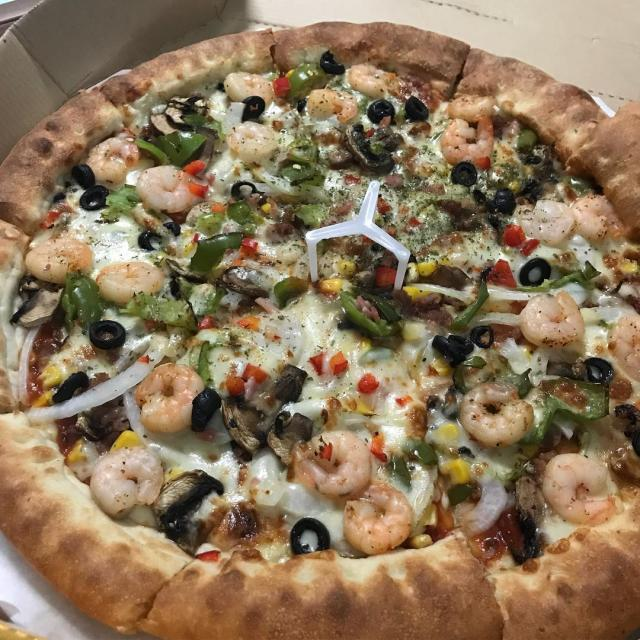black_olives: (291, 518, 332, 560), (87, 318, 129, 352), (195, 390, 223, 432), (53, 371, 91, 401), (433, 334, 464, 369), (518, 257, 552, 288), (583, 357, 615, 388), (80, 185, 110, 211), (320, 49, 347, 77), (240, 94, 267, 121), (451, 161, 477, 187), (368, 98, 395, 123), (404, 95, 430, 120), (72, 163, 96, 190), (494, 187, 518, 214), (231, 182, 257, 202), (139, 230, 162, 252), (470, 328, 495, 348), (449, 334, 474, 353), (163, 221, 182, 236)
mushrooms: (222, 366, 308, 454), (153, 468, 224, 533), (10, 274, 67, 329), (343, 122, 398, 175), (268, 412, 314, 468), (515, 478, 544, 552), (219, 266, 272, 300), (164, 92, 210, 130), (613, 403, 640, 461), (147, 113, 194, 140)
pizza: (0, 22, 640, 640)
